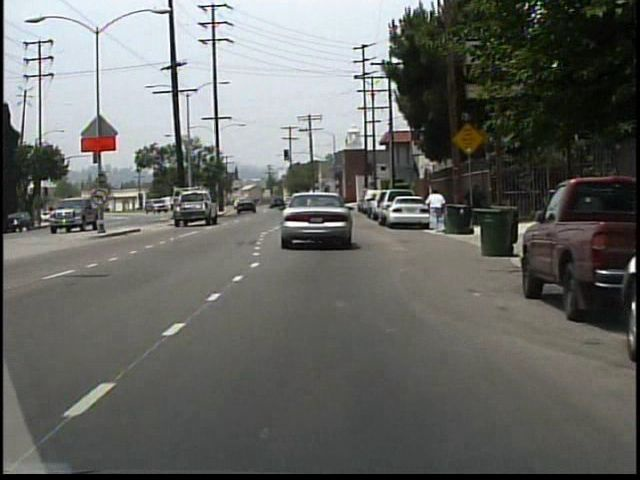person: (426, 187, 447, 235)
